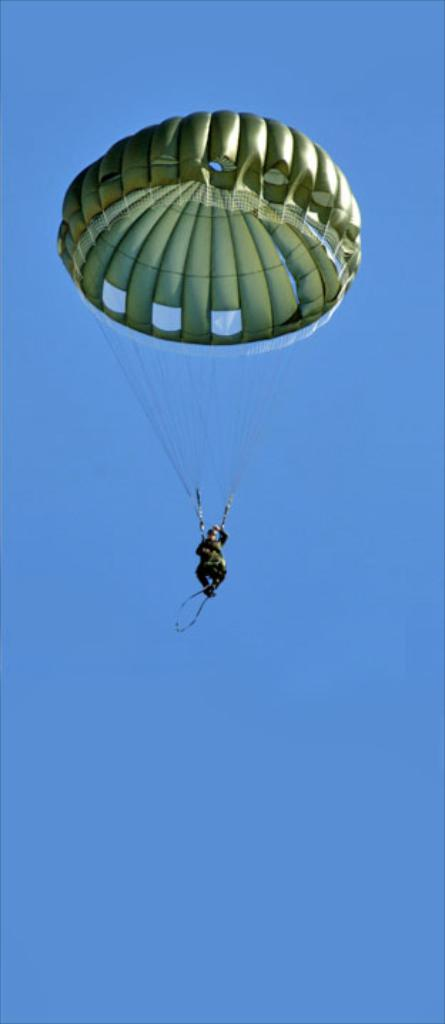Person: (194, 525, 229, 598)
